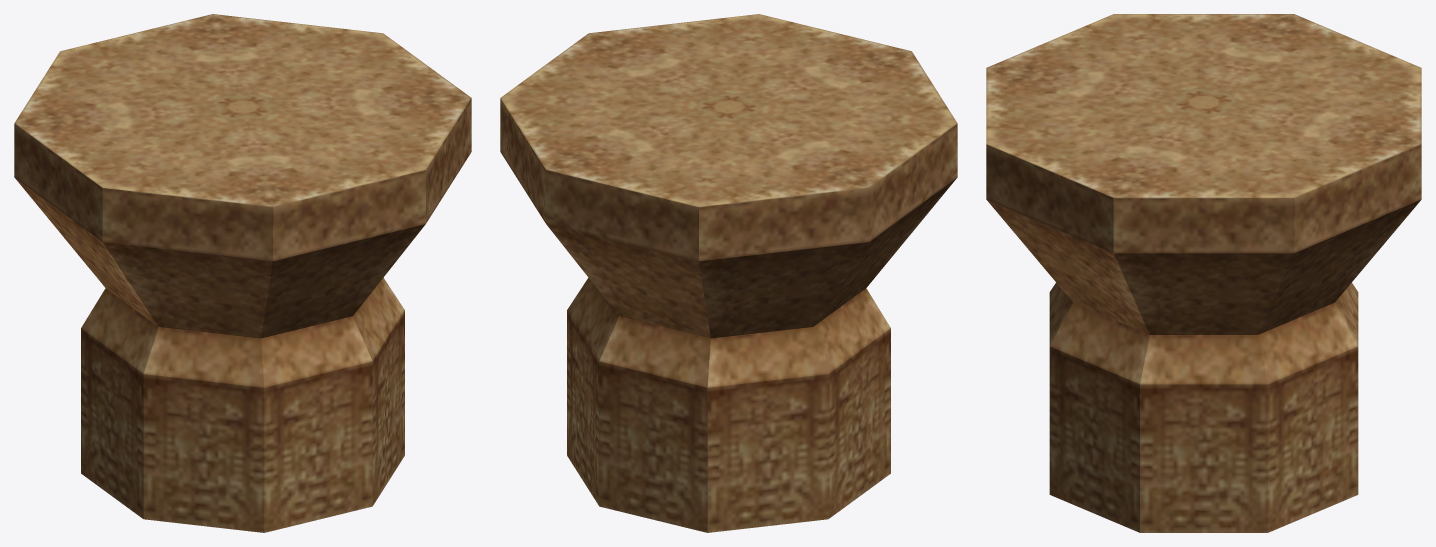
Rendered from general_obj_bigtoewr11.glb.
The picture shows the model from 3 angles, left to right: view 1: azimuth 30°, elevation 25°; view 2: azimuth 150°, elevation 25°; view 3: azimuth 270°, elevation 25°; orthographic projection. The views are drawn at different scales.
Parts seen in each view (by area): view 1: Sphere01; view 2: Sphere01; view 3: Sphere01.
Part boxes in pixels (x1,y1,x2,y2): Sphere01: [14, 14, 471, 532]; Sphere01: [500, 14, 957, 532]; Sphere01: [986, 14, 1421, 532].
Size of the model in its own units: 4.31 by 4 by 4.31.
1 material, 1 textured.
